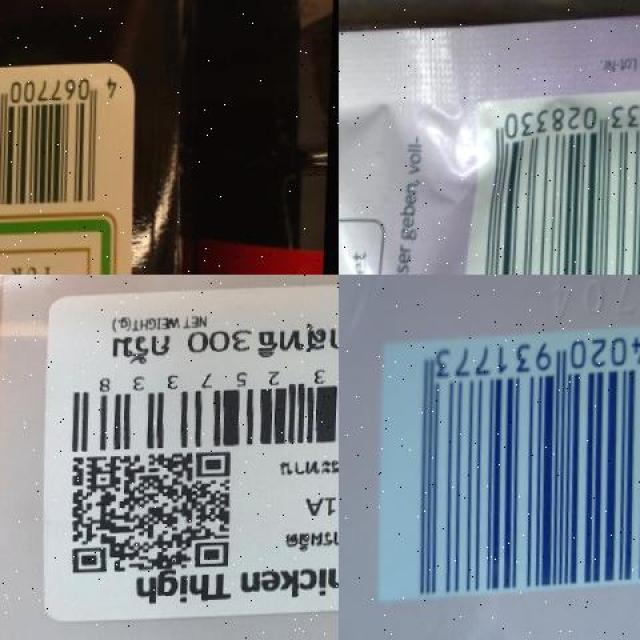Barcode: (372, 316, 640, 611), (464, 89, 640, 275), (56, 360, 339, 456), (0, 59, 127, 217)
